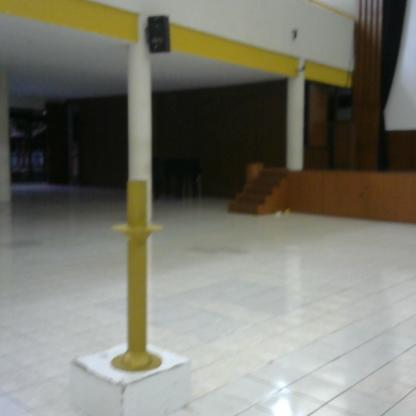pole: (105, 178, 168, 376)
